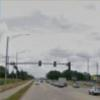cars: (88, 81, 100, 100), (90, 84, 100, 98)
